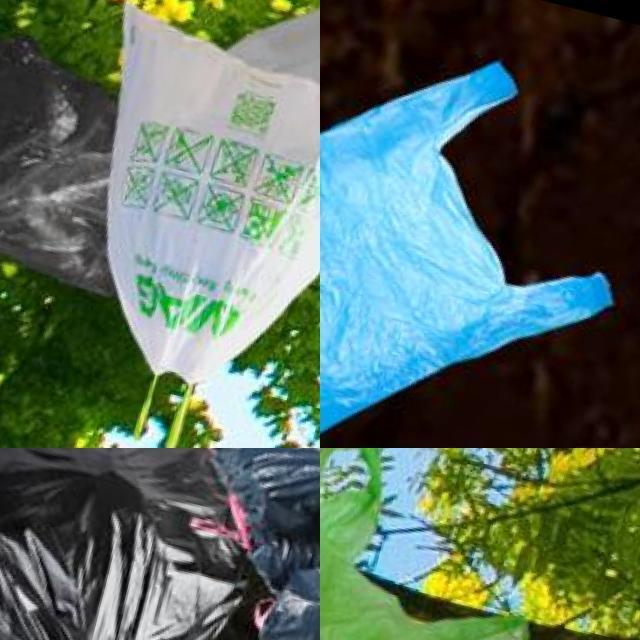waste: (320, 0, 640, 448), (38, 4, 320, 423), (320, 448, 560, 640), (0, 14, 141, 291), (191, 448, 320, 547), (246, 502, 320, 640)
